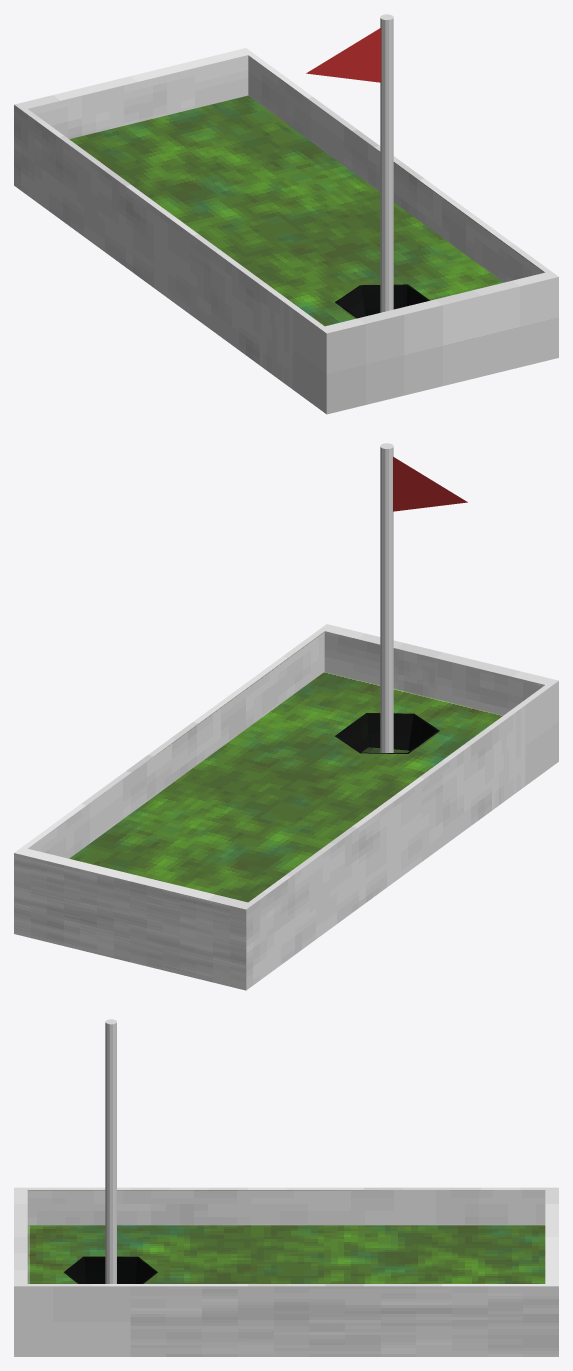
Rendered from model_golf_terrain1.gltf.
The picture shows the model from 3 angles, top to bottom: view 1: azimuth 30°, elevation 25°; view 2: azimuth 150°, elevation 25°; view 3: azimuth 270°, elevation 25°; orthographic projection. The views are drawn at different scales.
Parts seen in each view (by area): view 1: cuboid, cylinder, pyramid; view 2: cuboid, cylinder, pyramid; view 3: cuboid, cylinder.
Boxes of the visible parts, x1=… form: cuboid: x1=14, y1=48, x2=558, y2=414; cylinder: x1=380, y1=14, x2=393, y2=312; pyramid: x1=306, y1=28, x2=381, y2=82; cuboid: x1=14, y1=624, x2=558, y2=990; cylinder: x1=380, y1=443, x2=393, y2=752; pyramid: x1=393, y1=456, x2=467, y2=511; cuboid: x1=14, y1=1187, x2=558, y2=1356; cylinder: x1=105, y1=1019, x2=116, y2=1283.
Size of the model in its own units: 0.375 by 0.5063 by 0.875.
3 materials, 3 textured.
